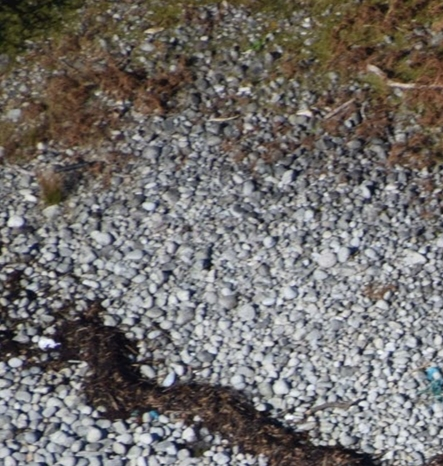straight_bar: (50, 147, 94, 182)
white_in_green: (130, 391, 183, 432)
